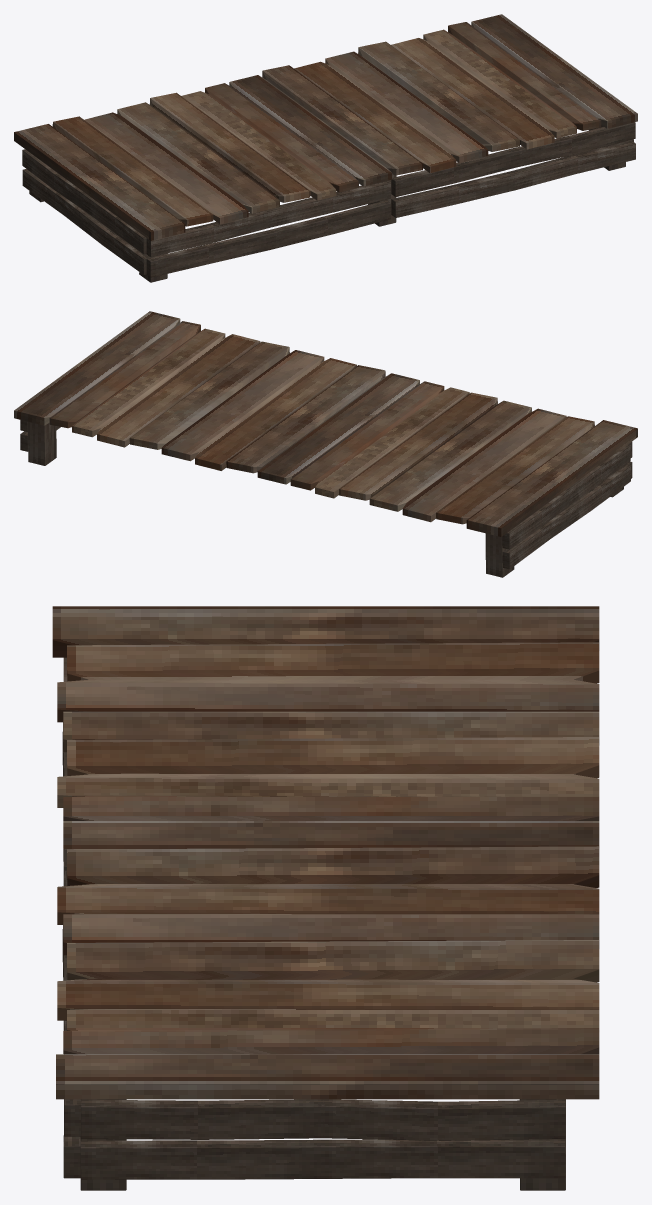
Rendered from Walkway_4m.fbx.
3 renders of one model, top to bottom at view 1: azimuth 30°, elevation 25°; view 2: azimuth 150°, elevation 25°; view 3: azimuth 270°, elevation 25°, orthographic. The views are drawn at different scales.
Parts seen in each view (by area): view 1: Walkway_4m; view 2: Walkway_4m; view 3: Walkway_4m.
Part boxes in pixels (box(x1,y1,x2,y2)): Walkway_4m: box(14, 14, 637, 282); Walkway_4m: box(14, 311, 637, 577); Walkway_4m: box(52, 606, 599, 1190).
Size of the model in its own units: 423 by 48.07 by 204.
2 materials, 2 textured.
